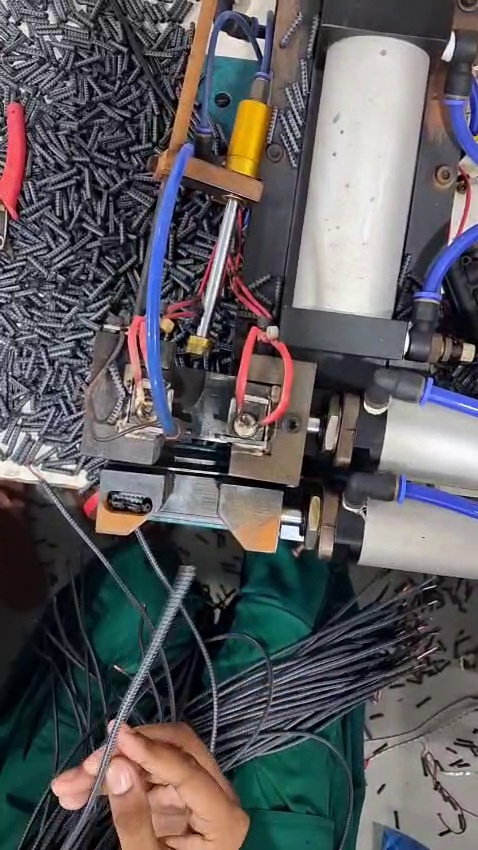intact_wire: (144, 550, 215, 678)
machine: (71, 307, 328, 510)
